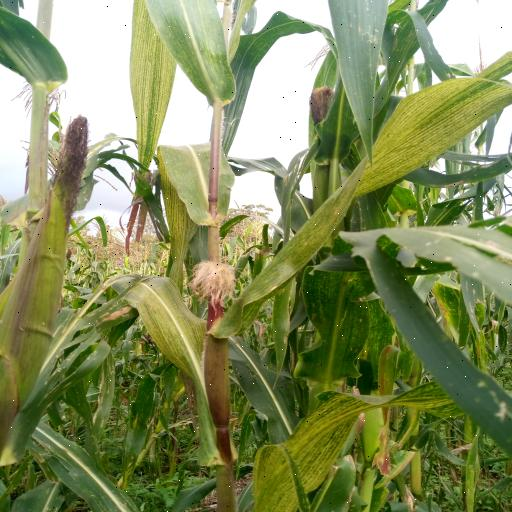Corn_Streak: (212, 74, 512, 339), (242, 375, 494, 511), (118, 0, 224, 168)
